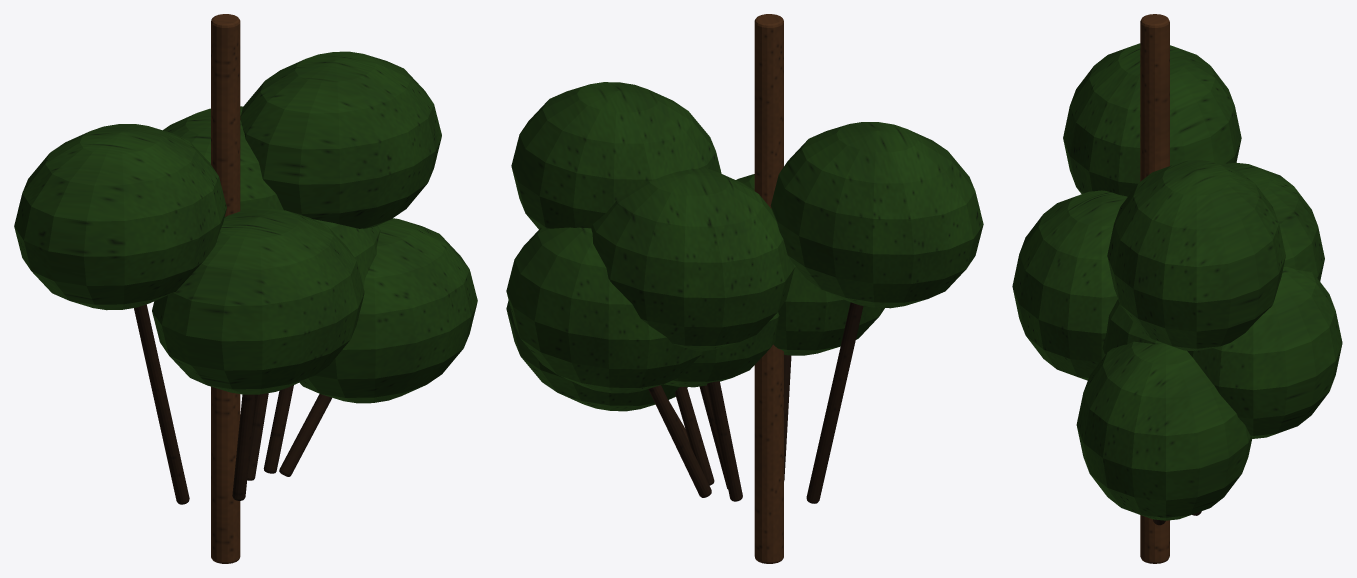
File: PROP-39FE989620EB_lod0.glb
3 renders of one model, left to right at view 1: azimuth 30°, elevation 25°; view 2: azimuth 150°, elevation 25°; view 3: azimuth 270°, elevation 25°, orthographic.
Parts seen in each view (by area): view 1: foliage.015, vine_stake.001, plant_stem.015; view 2: foliage.015, vine_stake.001, plant_stem.015; view 3: foliage.015, vine_stake.001.
Part boxes in pixels (x1,y1,x2,y2): foliage.015: (14,51,477,403); vine_stake.001: (211,14,240,563); plant_stem.015: (134,304,331,504); foliage.015: (506,82,983,411); vine_stake.001: (754,14,783,563); plant_stem.015: (648,302,863,503); foliage.015: (1012,43,1342,520); vine_stake.001: (1140,14,1169,563).
Size of the model in its own units: 1.4 by 1.6 by 0.887.
3 materials, 3 textured.
